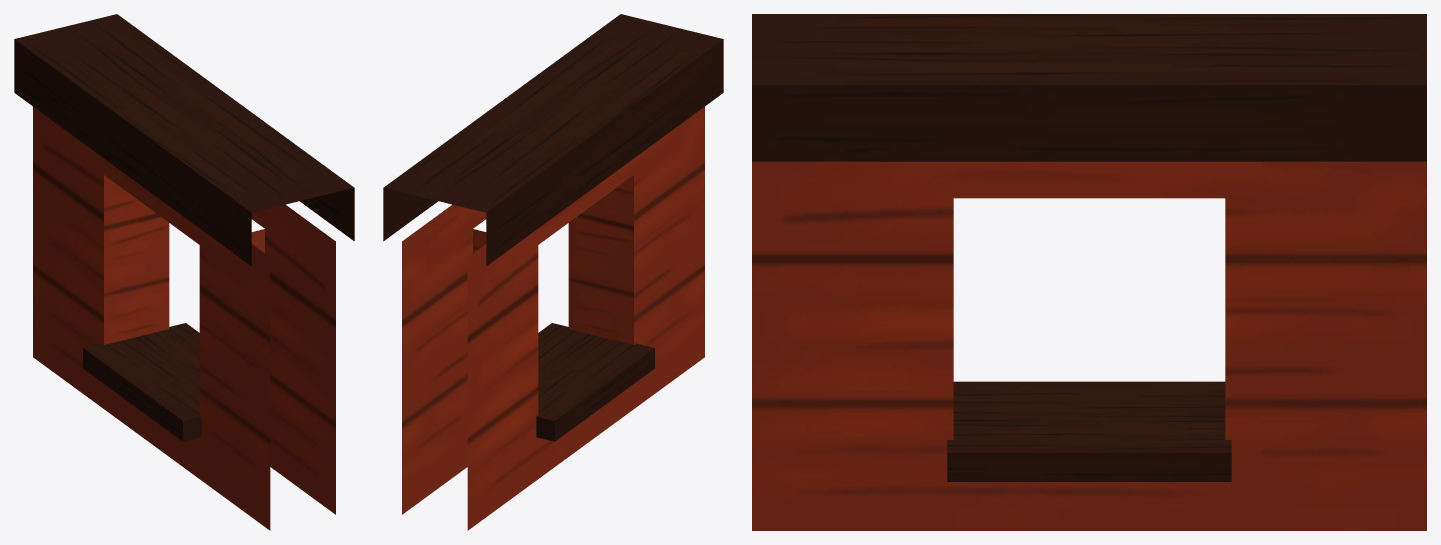
File: Boat_Side.fbx
3 renders of one model, left to right at view 1: azimuth 30°, elevation 25°; view 2: azimuth 150°, elevation 25°; view 3: azimuth 270°, elevation 25°, orthographic. The views are drawn at different scales.
Parts seen in each view (by area): view 1: Boat_Side; view 2: Boat_Side; view 3: Boat_Side.
Boxes of the visible parts, x1,y1,x2,y2 form: Boat_Side: [14, 14, 354, 530]; Boat_Side: [383, 14, 723, 530]; Boat_Side: [752, 14, 1426, 530].
Bounding box in the file's own units: 0.5 × 1.5 × 2.
